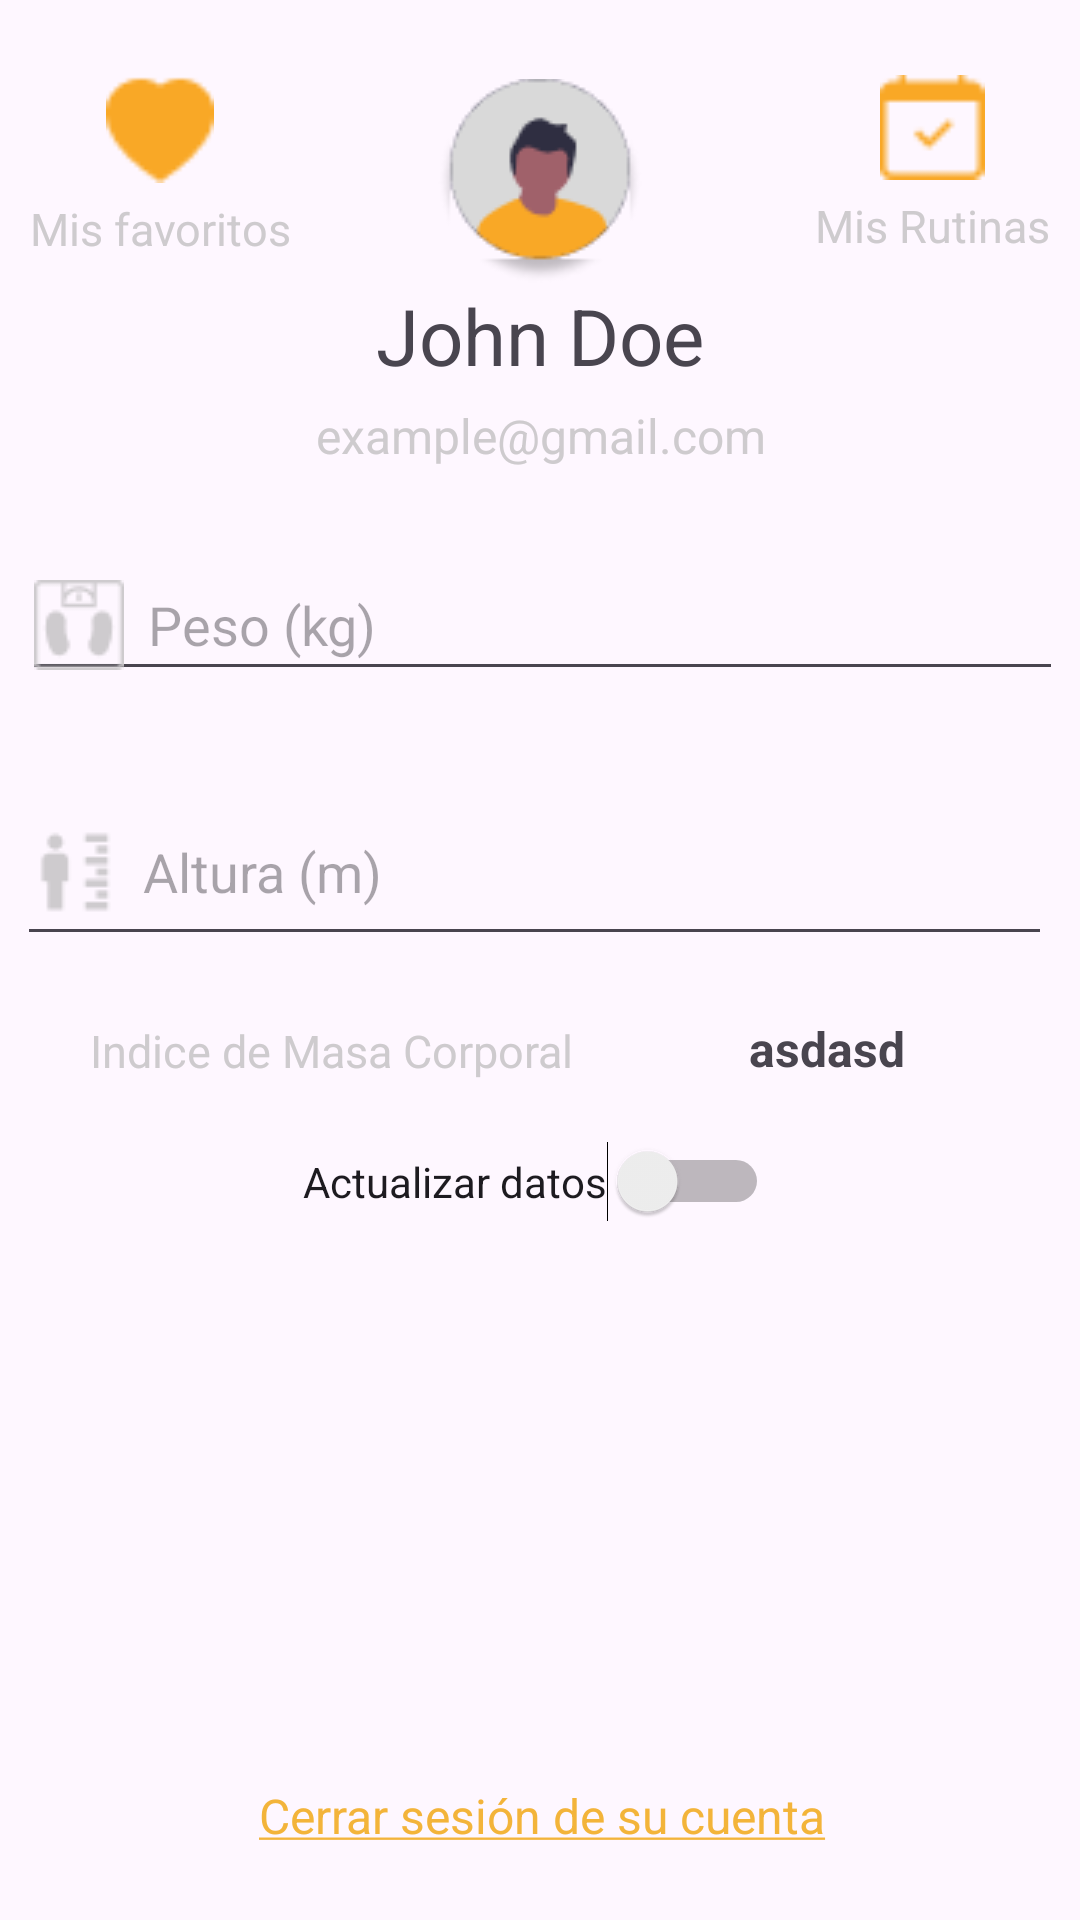

Screen size 1080w x 1920h. Icon name, then its box in pixels as (x1, y1, x2, y2):
calendar check: (880, 75, 985, 180)
heart: (106, 78, 214, 183)
perfil: (449, 79, 631, 272)
